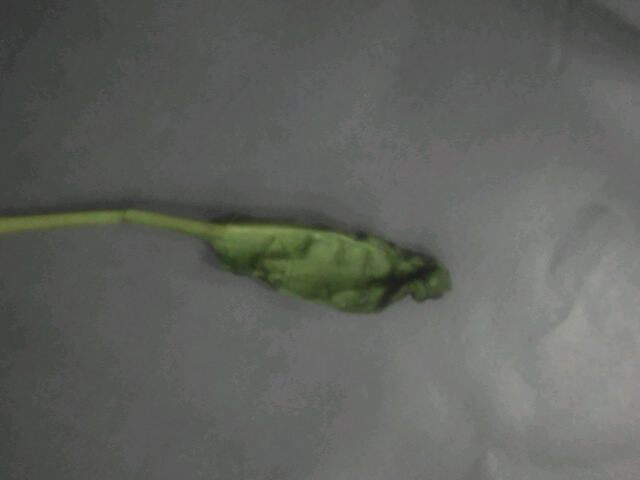yellow: (81, 171, 462, 322)
